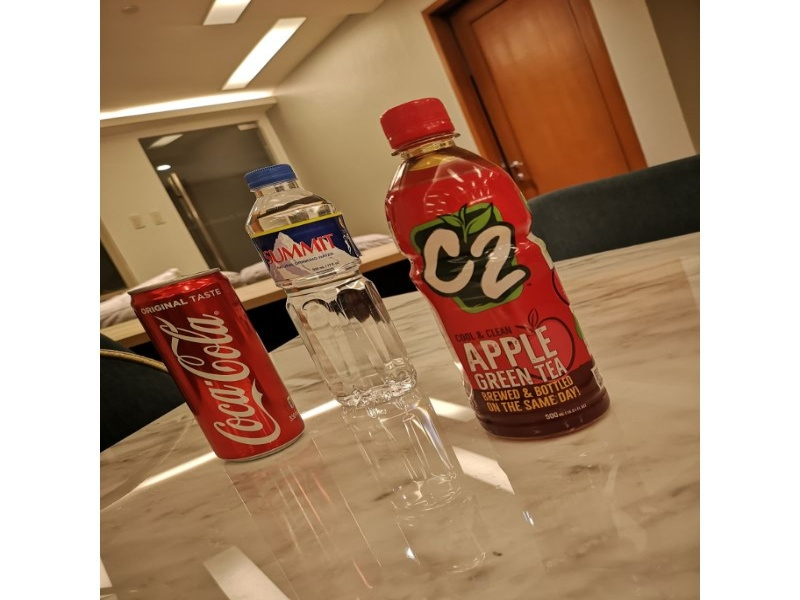PET #1: (376, 97, 614, 442), (245, 164, 416, 411)
